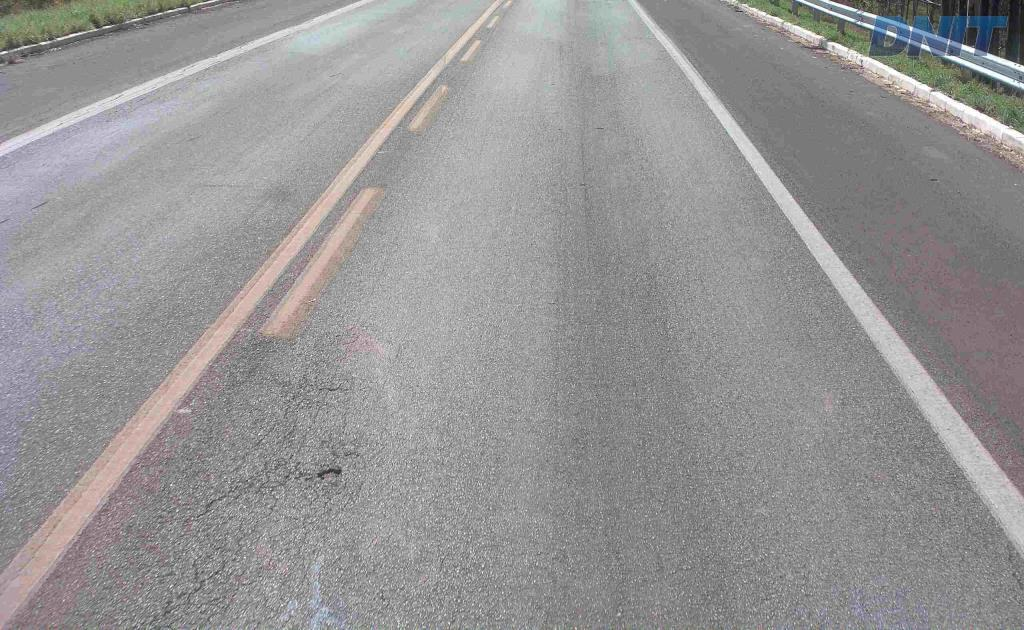pothole: (307, 460, 348, 483)
